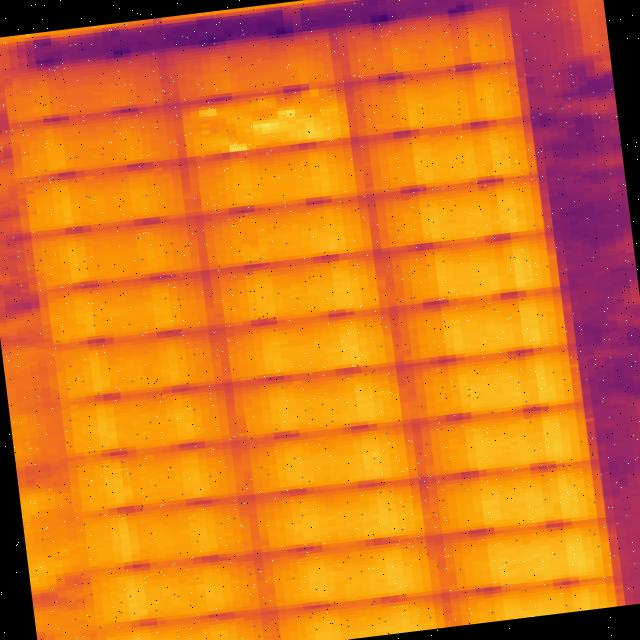Hotspot: (188, 81, 350, 156)
